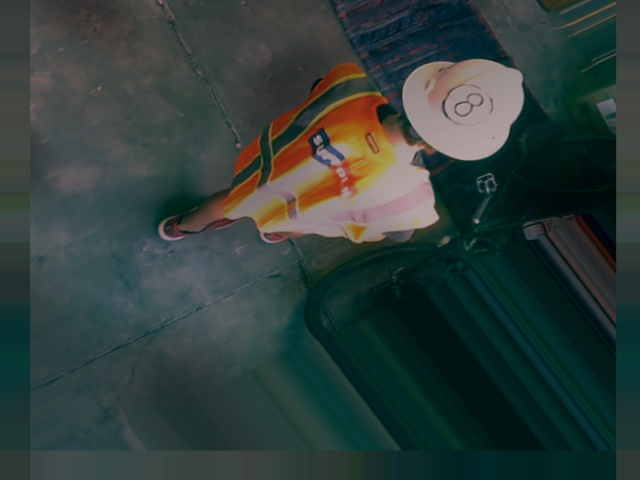eight: (433, 74, 502, 134)
